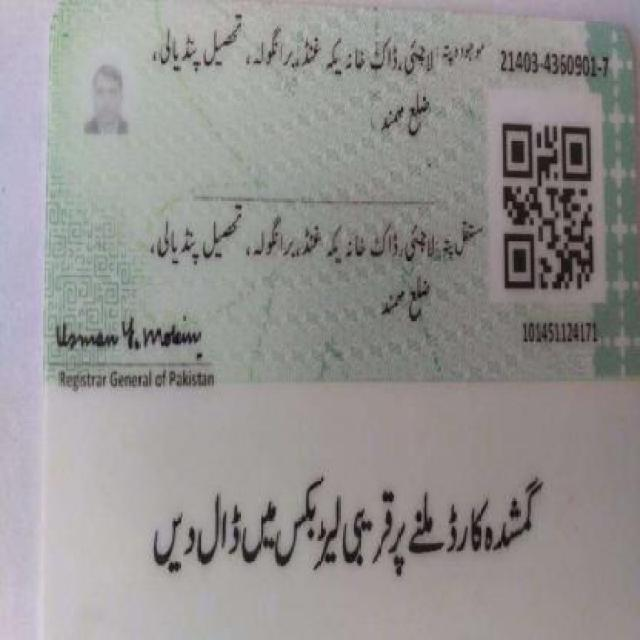Back: (29, 6, 634, 639)
